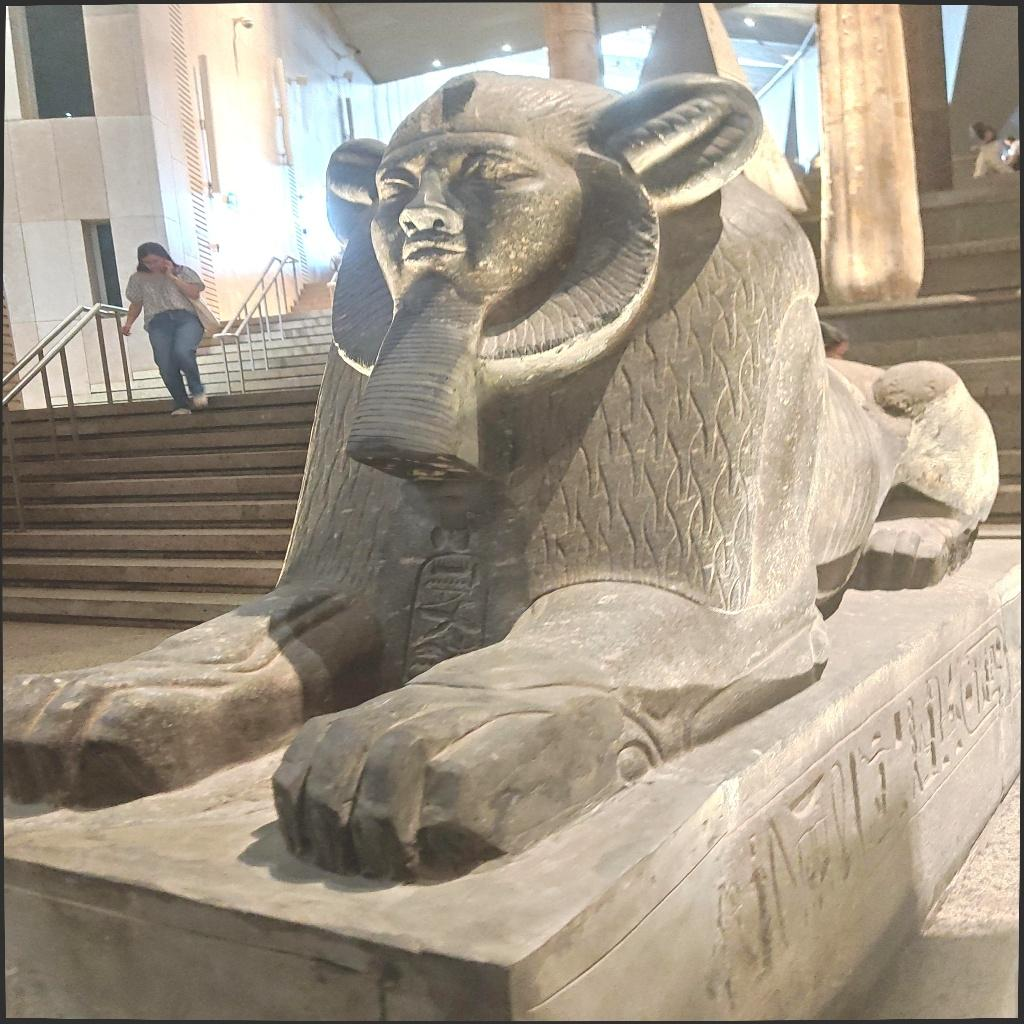Sphinx of Amenmhat III: (222, 63, 981, 882)
